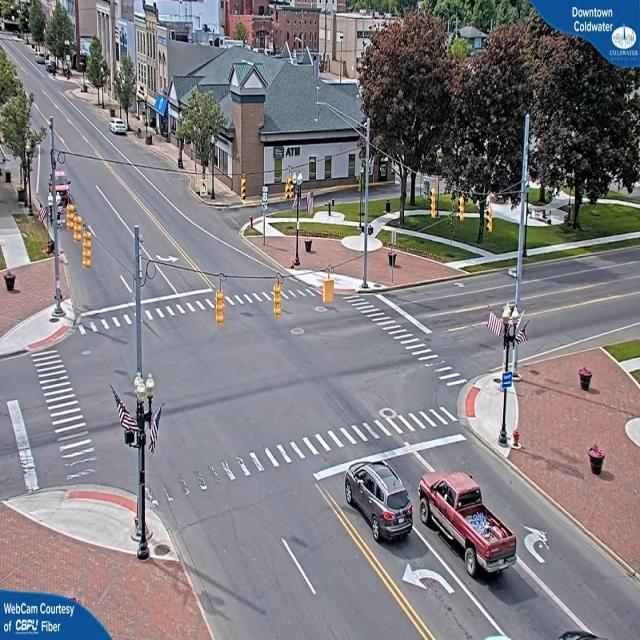car: (417, 474, 516, 584), (346, 459, 415, 543), (110, 119, 128, 136)
